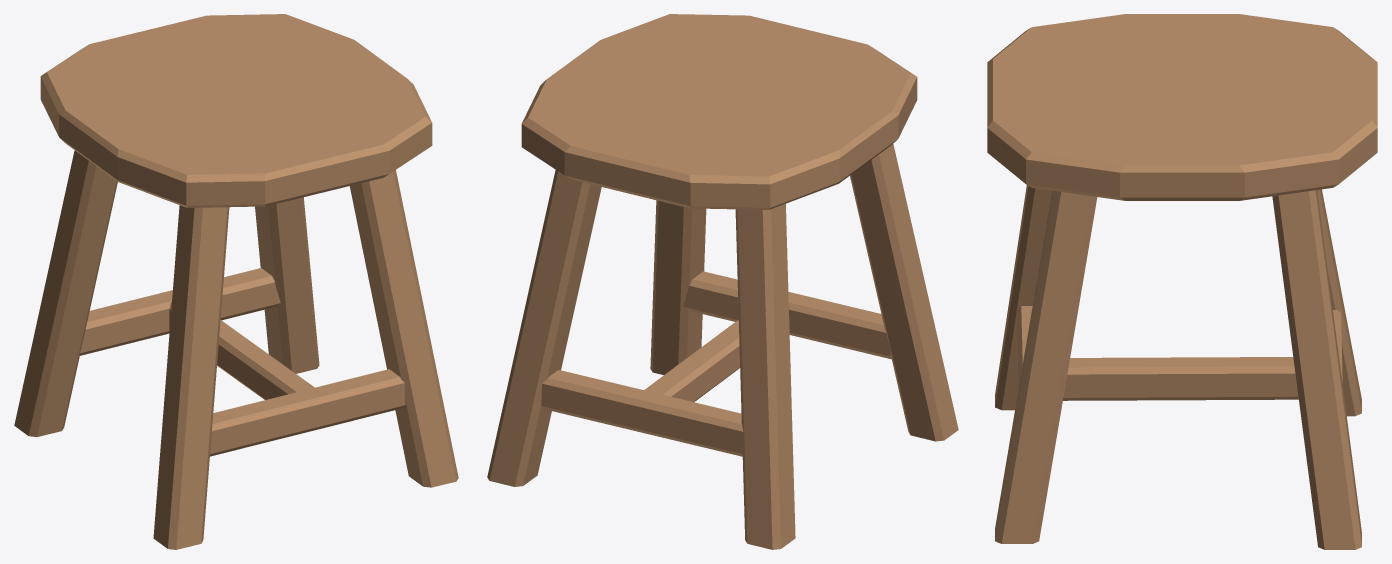
File: stool.fbx
3 renders of one model, left to right at view 1: azimuth 30°, elevation 25°; view 2: azimuth 150°, elevation 25°; view 3: azimuth 270°, elevation 25°, orthographic. The views are drawn at different scales.
Parts seen in each view (by area): view 1: stool; view 2: stool; view 3: stool.
Part boxes in pixels (<box>): stool: <box>14,14,458,549</box>; stool: <box>487,14,958,549</box>; stool: <box>987,14,1377,549</box>.
Size of the model in its own units: 0.6586 by 0.741 by 0.6863.
